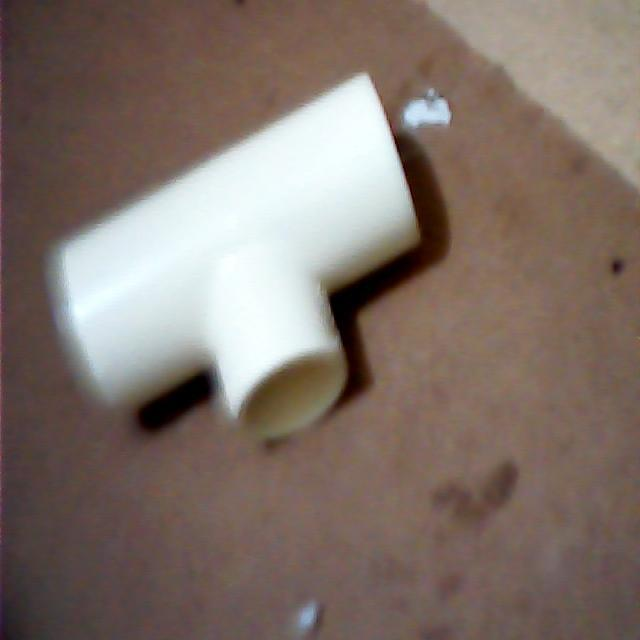T Joint: (44, 72, 423, 441)
